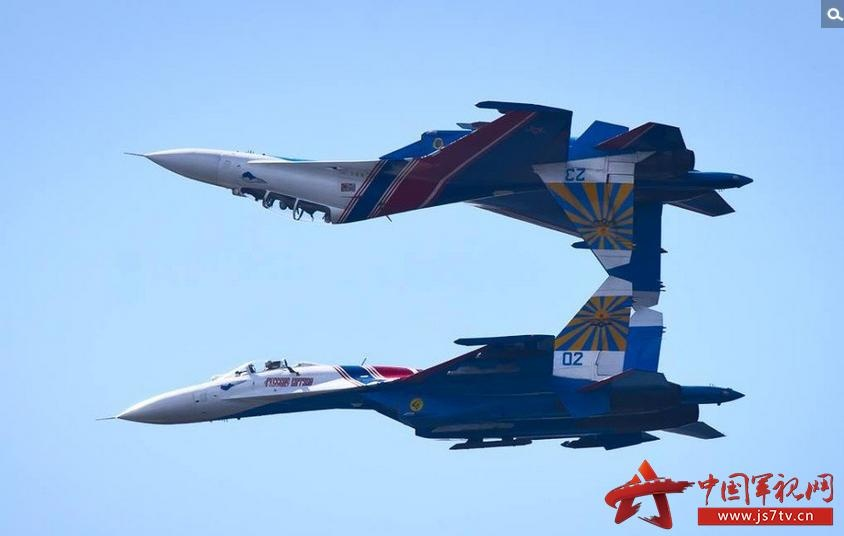airplane: (123, 96, 753, 297), (108, 260, 720, 460)
